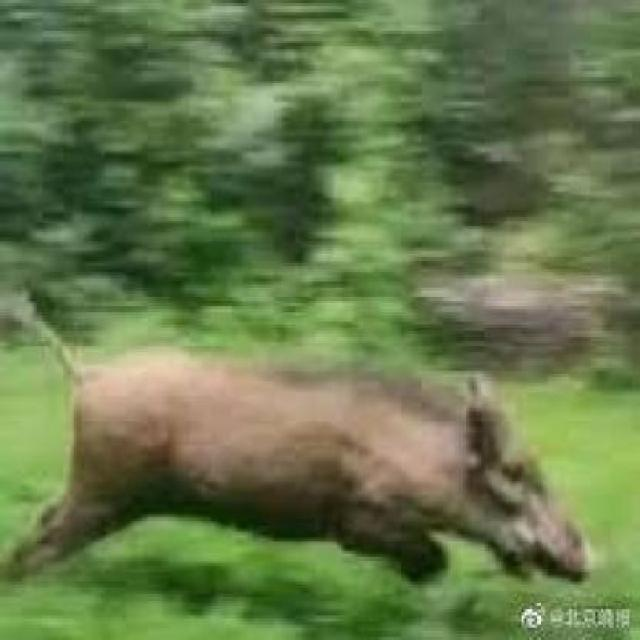wildboar: (0, 297, 600, 640)
